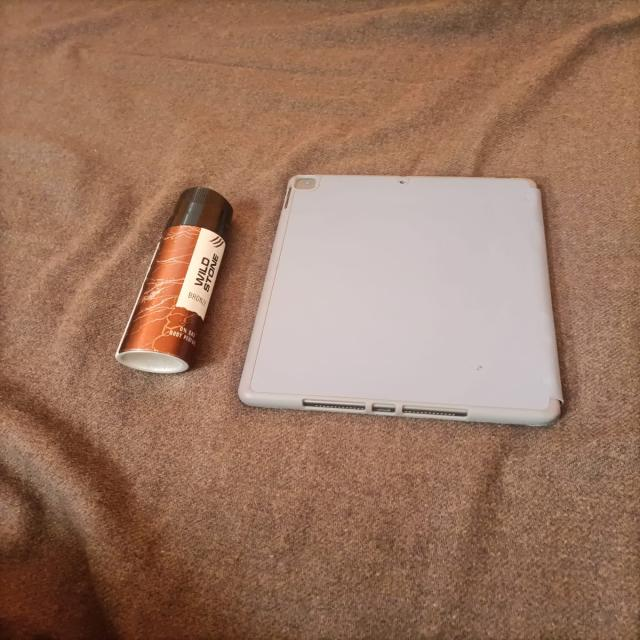spray: (105, 173, 242, 395)
tablet: (232, 164, 582, 440)
